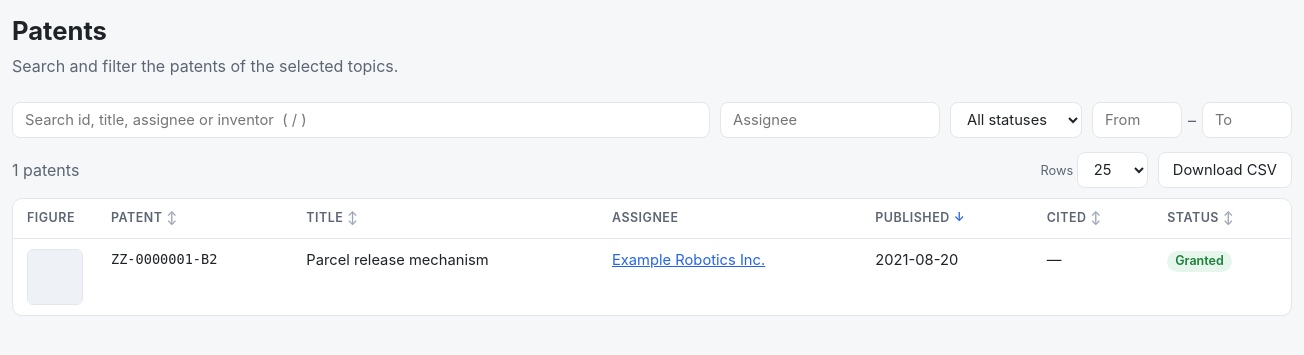
Scenario: Patents › keeps a trailing space while typing a search
In the search field named "Search patents": (361, 120) [12,102,710,138], type "parcel "
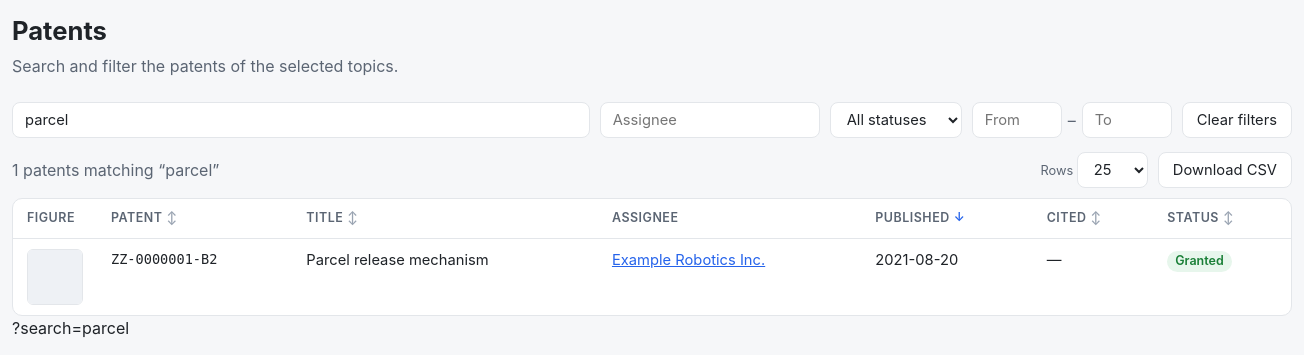
Result: the text with test id "location" reads "?search=parcel" at [12,318,129,338]
